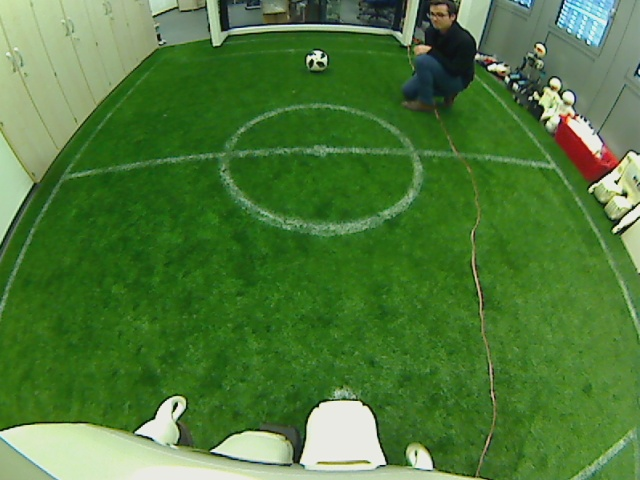ball: (304, 49, 330, 72)
